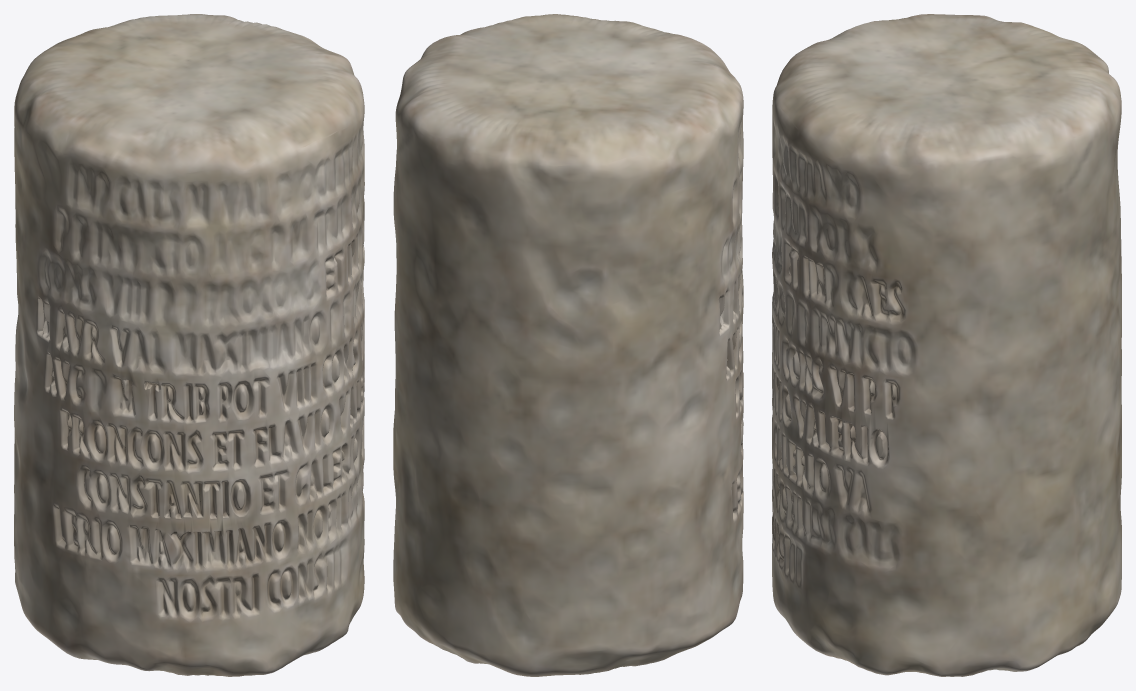
File: 19_CIPO_constancio_galerio.glb
3 renders of one model, left to right at view 1: azimuth 30°, elevation 25°; view 2: azimuth 150°, elevation 25°; view 3: azimuth 270°, elevation 25°, orthographic.
Visible parts, largest first — view 1: CONSTANCIO_GALERIO_LP; view 2: CONSTANCIO_GALERIO_LP; view 3: CONSTANCIO_GALERIO_LP.
Part boxes in pixels (<box>): CONSTANCIO_GALERIO_LP: <box>14,14,364,676</box>; CONSTANCIO_GALERIO_LP: <box>393,14,743,676</box>; CONSTANCIO_GALERIO_LP: <box>772,14,1121,676</box>.
Size of the model in its own units: 0.394 by 0.6758 by 0.394.
Materials: 1 (1 with a texture image).
